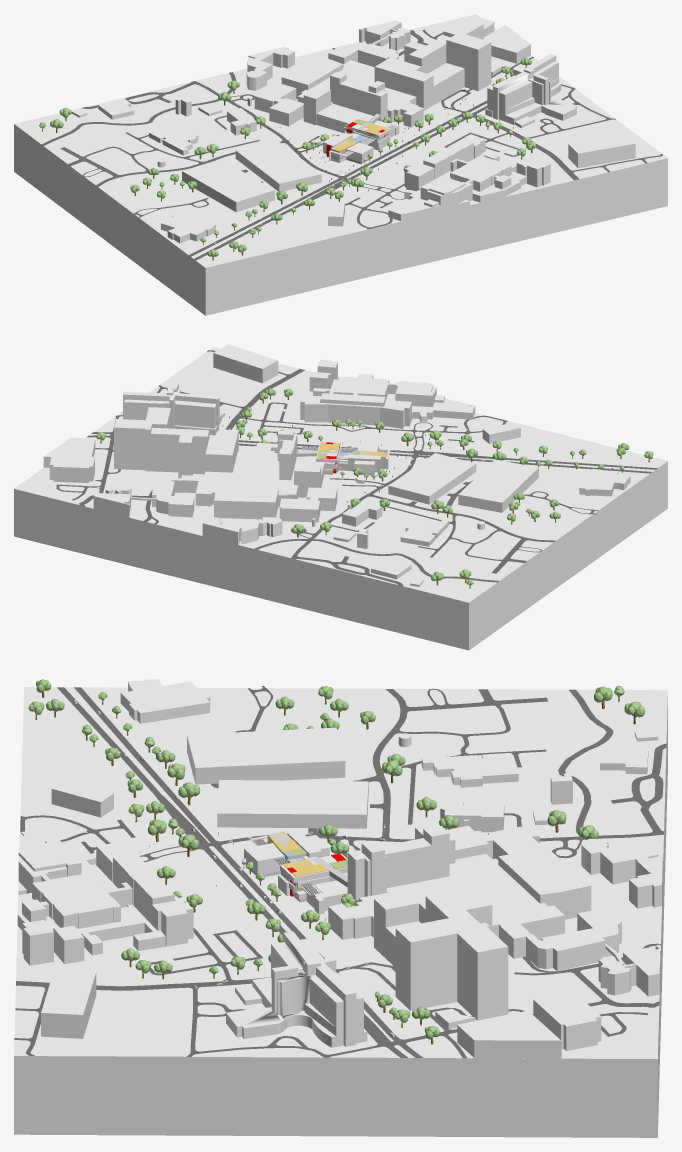
File: buildings.glb
The picture shows the model from 3 angles, top to bottom: view 1: azimuth 30°, elevation 25°; view 2: azimuth 150°, elevation 25°; view 3: azimuth 270°, elevation 25°; orthographic projection. The views are drawn at different scales.
Visible parts, largest first — view 1: Mesh1 Group1 Model.001, Mesh30 Group30 Model, Mesh13 Group14 Model, Mesh9 Group12 Model, Mesh16 Group16 Model, Mesh15 Group15 Model, Mesh7 Group10 Model, Mesh36 Group36 Model, Mesh5 Component_1_1 Group8 Model, Mesh29 Group29 Model, Mesh35 Group35 Model, Mesh28 Group28 Model (+8 smaller); view 2: Mesh1 Group1 Model.001, Mesh30 Group30 Model, Mesh13 Group14 Model, Mesh9 Group12 Model, Mesh16 Group16 Model, Mesh15 Group15 Model, Mesh35 Group35 Model, Mesh7 Group10 Model, Mesh29 Group29 Model, Mesh36 Group36 Model, Mesh27 Group27 Model, Mesh17 Group17 Model (+9 smaller); view 3: Mesh1 Group1 Model.001, Mesh30 Group30 Model, Mesh13 Group14 Model, Mesh9 Group12 Model, Mesh16 Group16 Model, Mesh15 Group15 Model, Mesh5 Component_1_1 Group8 Model, Mesh28 Group28 Model, Mesh35 Group35 Model, Mesh29 Group29 Model, Mesh7 Group10 Model, Mesh17 Group17 Model (+13 smaller).
Part boxes in pixels (x1,y1,x2,y2): Mesh1 Group1 Model.001: (14, 14, 667, 315); Mesh30 Group30 Model: (297, 19, 491, 127); Mesh13 Group14 Model: (388, 135, 526, 221); Mesh9 Group12 Model: (485, 54, 576, 124); Mesh16 Group16 Model: (182, 159, 274, 212); Mesh15 Group15 Model: (235, 140, 321, 191); Mesh7 Group10 Model: (568, 133, 635, 168); Mesh36 Group36 Model: (254, 83, 303, 126); Mesh5 Component_1_1 Group8 Model: (330, 80, 387, 120); Mesh29 Group29 Model: (246, 47, 294, 90); Mesh35 Group35 Model: (281, 55, 343, 99); Mesh28 Group28 Model: (483, 25, 530, 63); Mesh1 Group1 Model.001: (14, 347, 667, 650); Mesh30 Group30 Model: (114, 407, 321, 517); Mesh13 Group14 Model: (300, 373, 475, 428); Mesh9 Group12 Model: (123, 383, 221, 435); Mesh16 Group16 Model: (458, 459, 538, 512); Mesh15 Group15 Model: (388, 453, 476, 504); Mesh35 Group35 Model: (214, 486, 278, 519); Mesh7 Group10 Model: (213, 344, 278, 383); Mesh29 Group29 Model: (202, 517, 282, 544); Mesh36 Group36 Model: (279, 487, 337, 522); Mesh27 Group27 Model: (49, 455, 94, 482); Mesh17 Group17 Model: (579, 469, 630, 496); Mesh1 Group1 Model.001: (14, 685, 667, 1137); Mesh30 Group30 Model: (328, 823, 621, 1020); Mesh13 Group14 Model: (17, 828, 193, 955); Mesh9 Group12 Model: (226, 931, 367, 1047); Mesh16 Group16 Model: (187, 727, 345, 784); Mesh15 Group15 Model: (217, 780, 368, 828); Mesh5 Component_1_1 Group8 Model: (347, 838, 449, 900); Mesh28 Group28 Model: (457, 1010, 561, 1058); Mesh35 Group35 Model: (498, 847, 591, 919); Mesh29 Group29 Model: (581, 838, 662, 908); Mesh7 Group10 Model: (41, 969, 96, 1038); Mesh17 Group17 Model: (120, 679, 210, 723).
Bounding box in the file's own units: 2505 × 460 × 1854.
